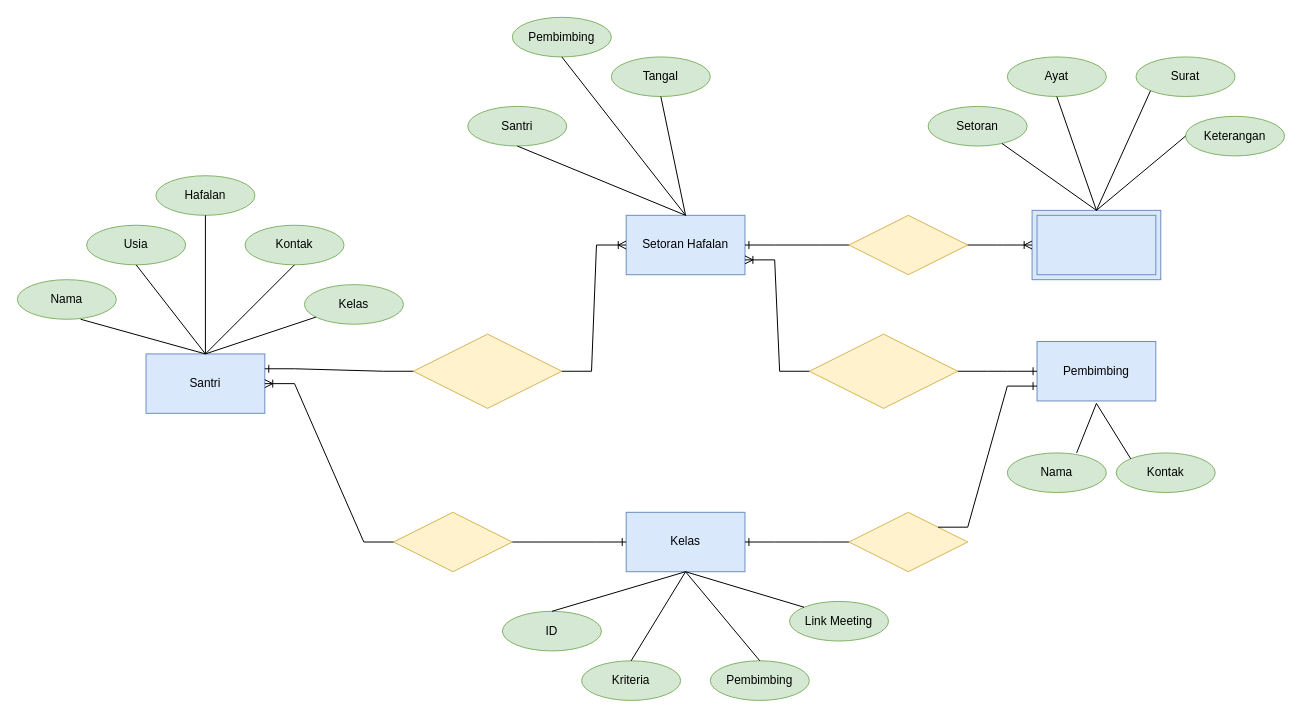
Image size: 1302x718. Some labels were removed from this diagram. Each missing label, with the centre of its shape:
Item Setoran (Ayat): (x=1096, y=244)
Kelompok: (x=452, y=541)
Memuat: (x=908, y=244)
Menerima & mengawasi: (x=883, y=370)
Mengajar: (x=908, y=541)
Menyetorkan: (x=487, y=370)
